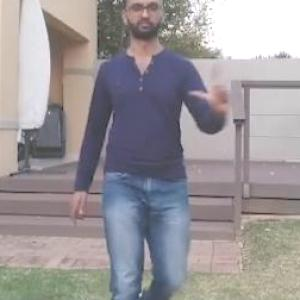land_hand: (188, 56, 242, 124)
